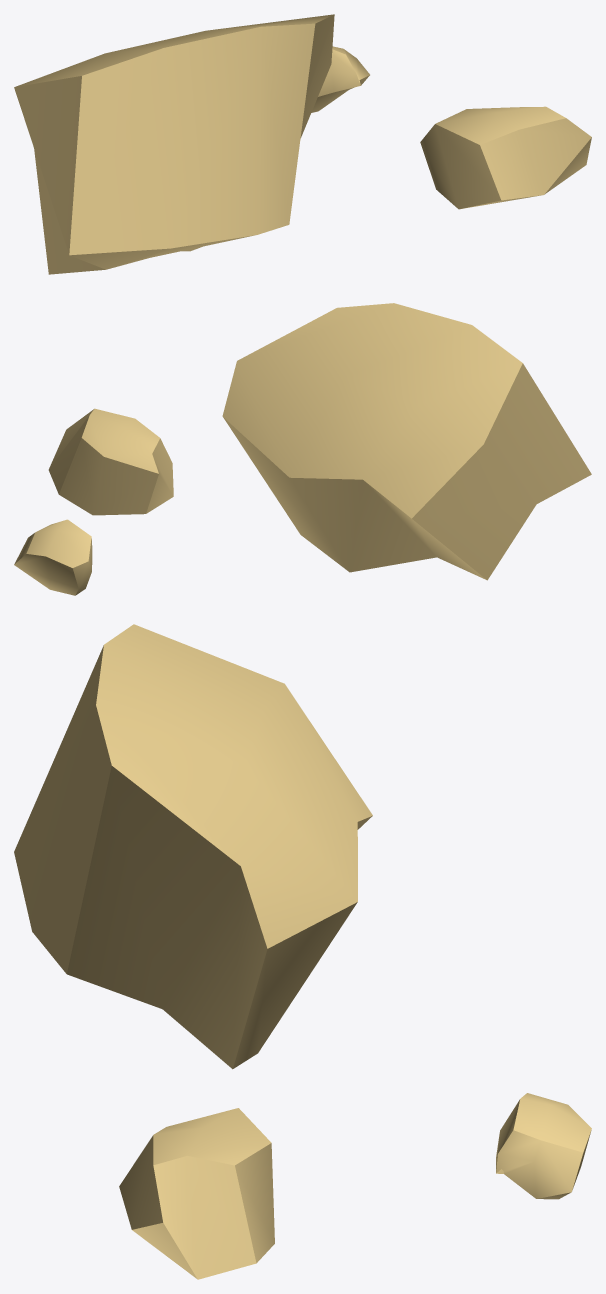
The model's file is crumbs1.fbx.
The picture shows the model from 3 angles, top to bottom: view 1: azimuth 30°, elevation 25°; view 2: azimuth 150°, elevation 25°; view 3: azimuth 270°, elevation 25°; orthographic projection. The views are drawn at different scales.
Visible parts, largest first — view 1: pCube29, pCube30, pCube31; view 2: pCube29, pCube30, pCube31; view 3: pCube29, pCube30, pCube31.
Part boxes in pixels (left/top/right/bottom): pCube29: left=14, top=14, right=334, bottom=274; pCube30: left=420, top=106, right=591, bottom=209; pCube31: left=311, top=46, right=369, bottom=112; pCube29: left=222, top=303, right=591, bottom=580; pCube30: left=48, top=408, right=173, bottom=515; pCube31: left=14, top=519, right=92, bottom=595; pCube29: left=14, top=624, right=372, bottom=1069; pCube30: left=119, top=1108, right=274, bottom=1279; pCube31: left=496, top=1093, right=591, bottom=1199.
Bounding box in the file's own units: 80.39 × 35.73 × 52.69.
